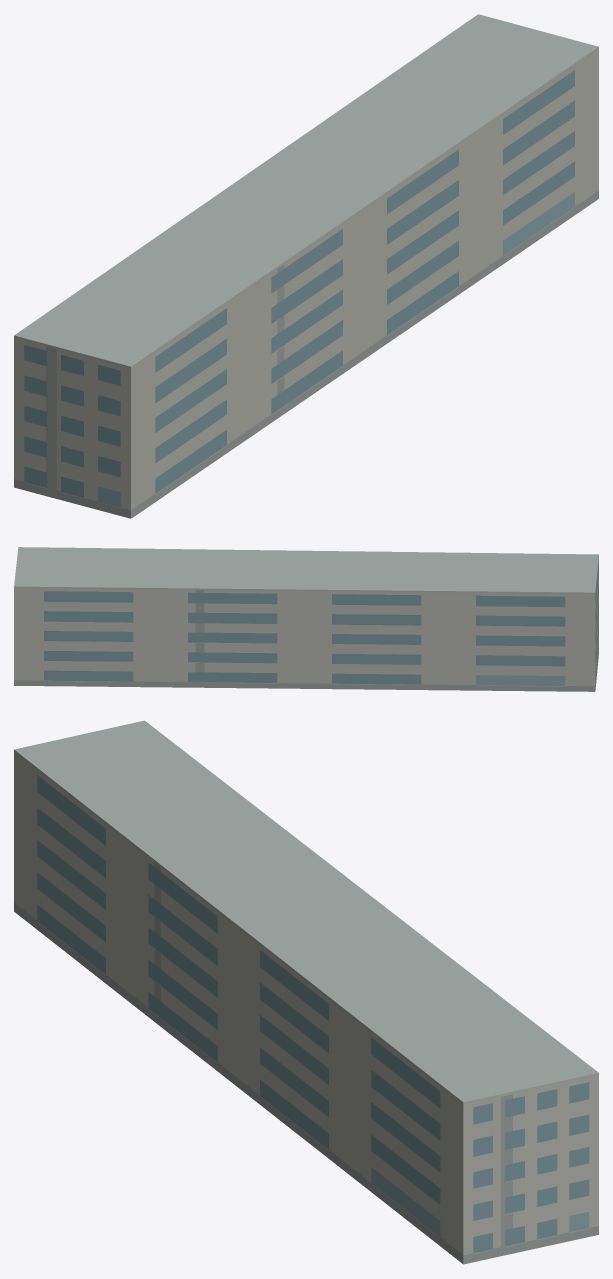
The model's file is residential-8e05f1bc-f47c-4954-9ddf-c71a69d581ae.glb.
The picture shows the model from 3 angles, top to bottom: view 1: azimuth 30°, elevation 25°; view 2: azimuth 150°, elevation 25°; view 3: azimuth 270°, elevation 25°; orthographic projection. The views are drawn at different scales.
Visible parts, largest first — view 1: residential-8e05f1bc-f47c-4954-9ddf-c71a69d581ae.tmp; view 2: residential-8e05f1bc-f47c-4954-9ddf-c71a69d581ae.tmp; view 3: residential-8e05f1bc-f47c-4954-9ddf-c71a69d581ae.tmp.
Part boxes in pixels (x1=…): residential-8e05f1bc-f47c-4954-9ddf-c71a69d581ae.tmp: x1=14, y1=14, x2=598, y2=518; residential-8e05f1bc-f47c-4954-9ddf-c71a69d581ae.tmp: x1=14, y1=547, x2=598, y2=691; residential-8e05f1bc-f47c-4954-9ddf-c71a69d581ae.tmp: x1=14, y1=720, x2=598, y2=1264.
Bounding box in the file's own units: 77.08 × 15.25 × 49.89.
